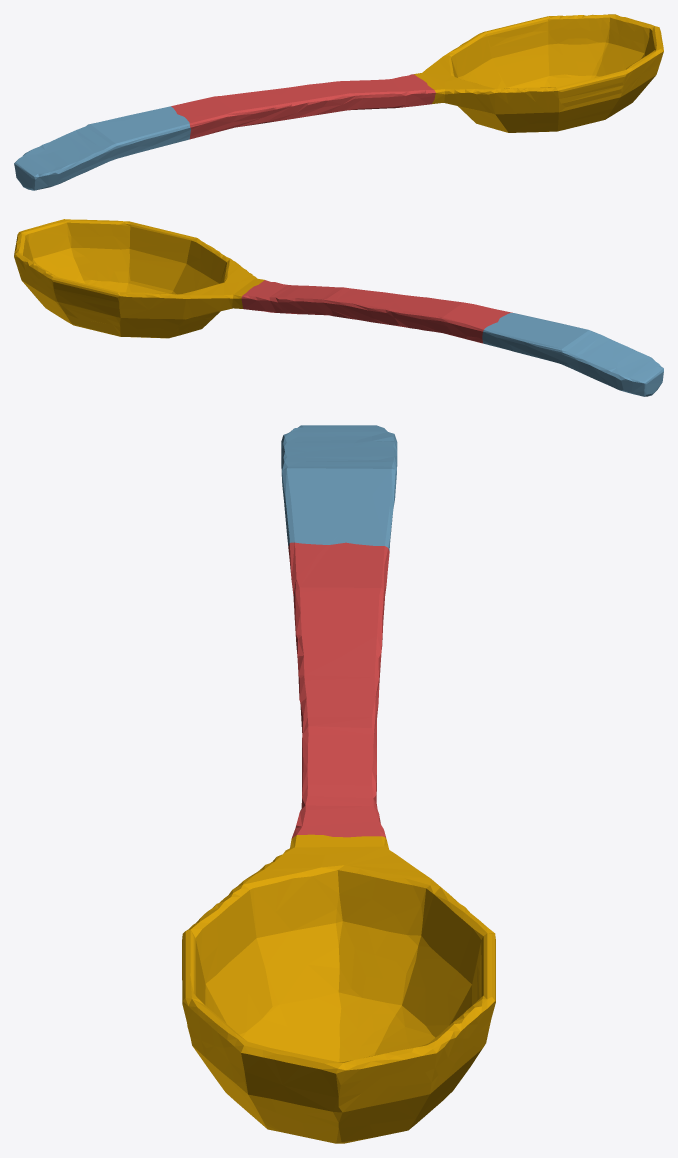
Rendered from mode_2_3pcs.glb.
3 views of the same model, one above another, from view 1: azimuth 30°, elevation 25°; view 2: azimuth 150°, elevation 25°; view 3: azimuth 270°, elevation 25° (orthographic). The views are drawn at different scales.
Parts seen in each view (by area): view 1: piece_0.obj, piece_1.obj, piece_2.obj; view 2: piece_0.obj, piece_1.obj, piece_2.obj; view 3: piece_0.obj, piece_1.obj, piece_2.obj.
Boxes of the visible parts, box(x1,y1,x2,y2) form: piece_0.obj: box(414, 14, 663, 132); piece_1.obj: box(171, 74, 435, 139); piece_2.obj: box(14, 106, 191, 190); piece_0.obj: box(14, 219, 264, 338); piece_1.obj: box(241, 280, 512, 343); piece_2.obj: box(482, 313, 663, 396); piece_0.obj: box(182, 834, 495, 1143); piece_1.obj: box(288, 542, 389, 838); piece_2.obj: box(281, 425, 397, 550).
Bounding box in the file's own units: 1 × 0.1529 × 0.2137.
